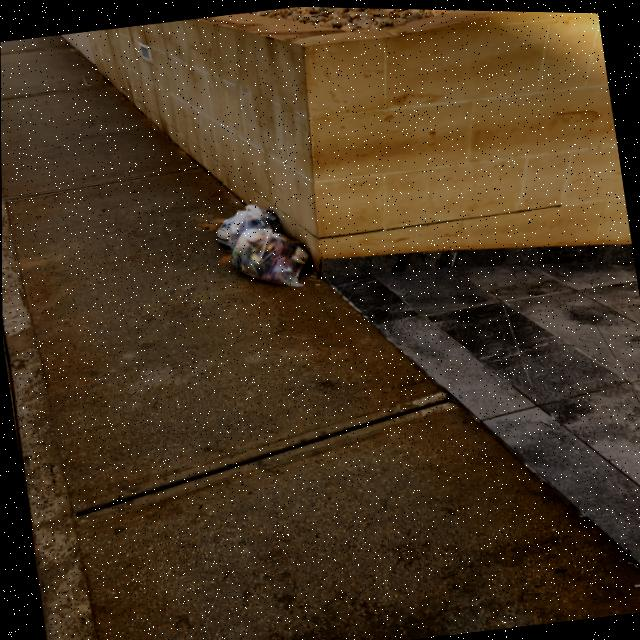Organic Waste -White Bag-: (230, 220, 319, 298), (213, 201, 288, 257)
